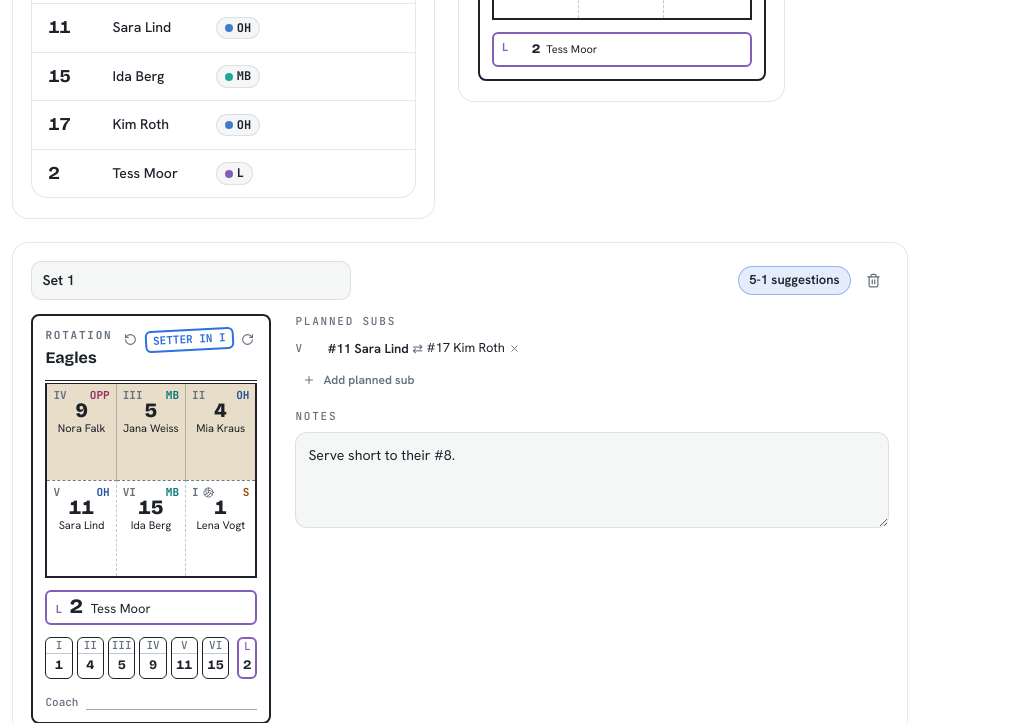
it: GamePage as a coach › Rotate back (I → II) on the slip moves everyone one position, keeping the print versions
(page scrolled)
Step 1. Click the button named "Rotate back (I → II)" → coordinates (131, 339), box x1=121 y1=328 x2=141 y2=350
(page scrolled)
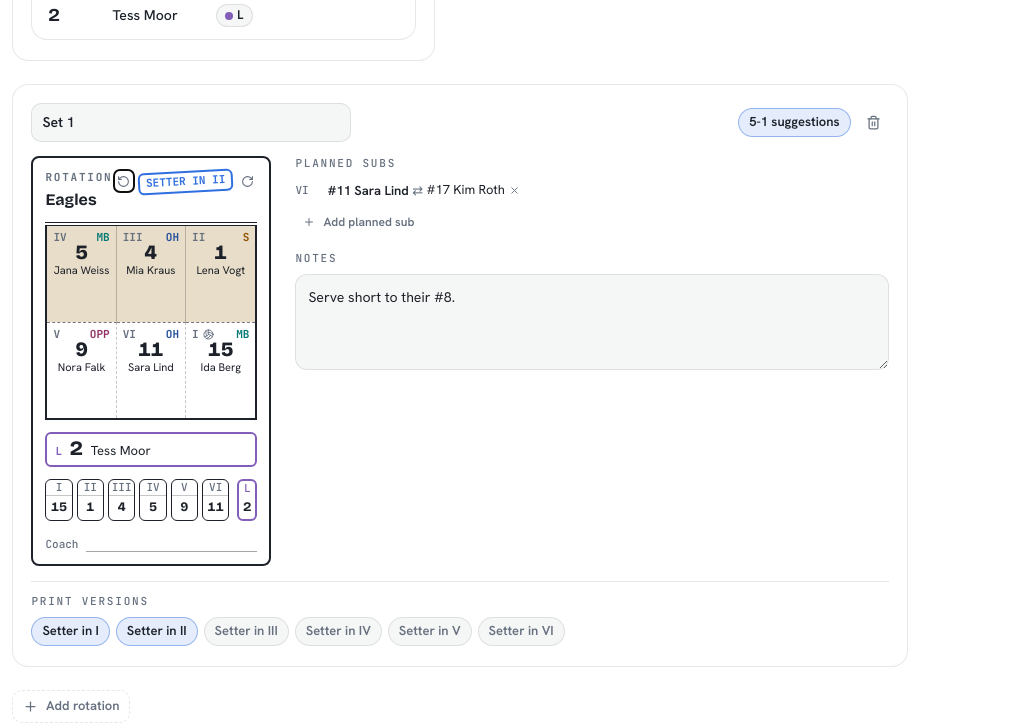
Expected: the buttons "Print" read "Setter in I", "Setter in II", in this order, x1=31 y1=617 x2=110 y2=646; x1=116 y1=617 x2=198 y2=646
Now the element named "Set 1, Setter in II" is shown, box x1=31 y1=156 x2=271 y2=566
